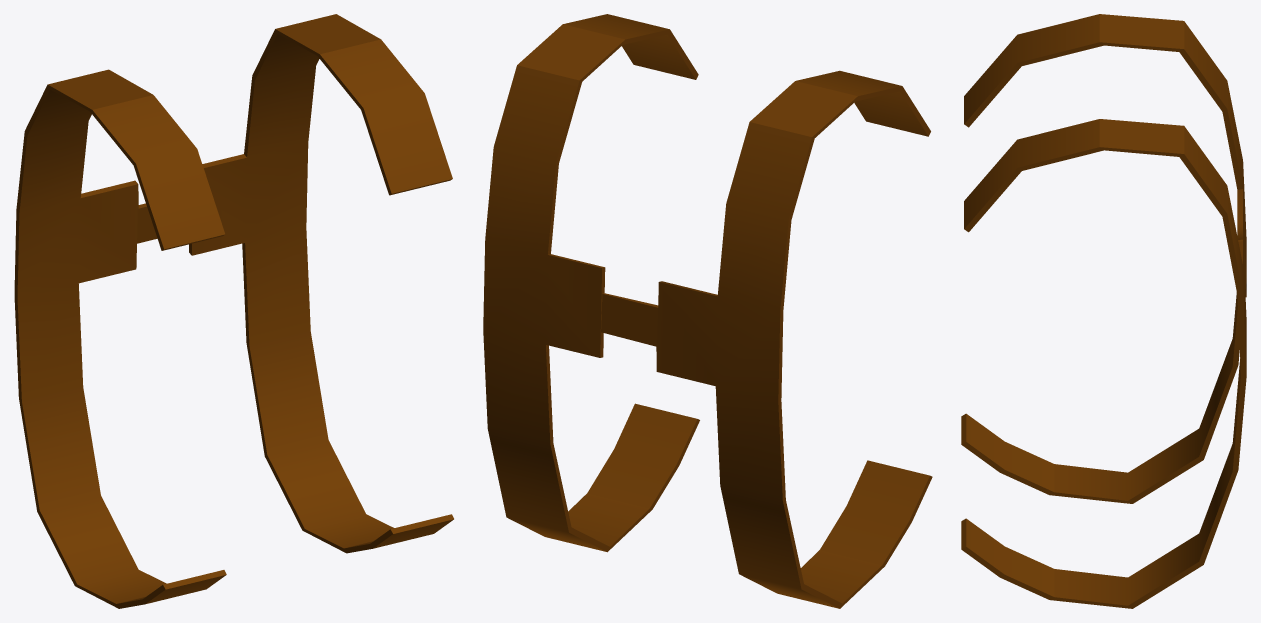
File: Jetpack Straps 1.fbx
3 renders of one model, left to right at view 1: azimuth 30°, elevation 25°; view 2: azimuth 150°, elevation 25°; view 3: azimuth 270°, elevation 25°, orthographic. The views are drawn at different scales.
Visible parts, largest first — view 1: pCube6; view 2: pCube6; view 3: pCube6.
Boxes of the visible parts, x1=… form: pCube6: x1=14, y1=14, x2=453, y2=608; pCube6: x1=483, y1=14, x2=932, y2=608; pCube6: x1=961, y1=14, x2=1246, y2=608.
Size of the model in its own units: 3.66 by 5.92 by 3.32.
